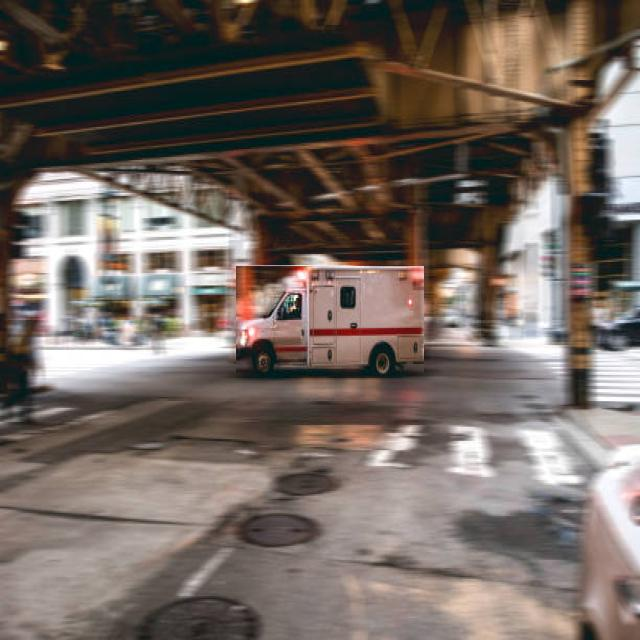emergency: (236, 266, 424, 376)
